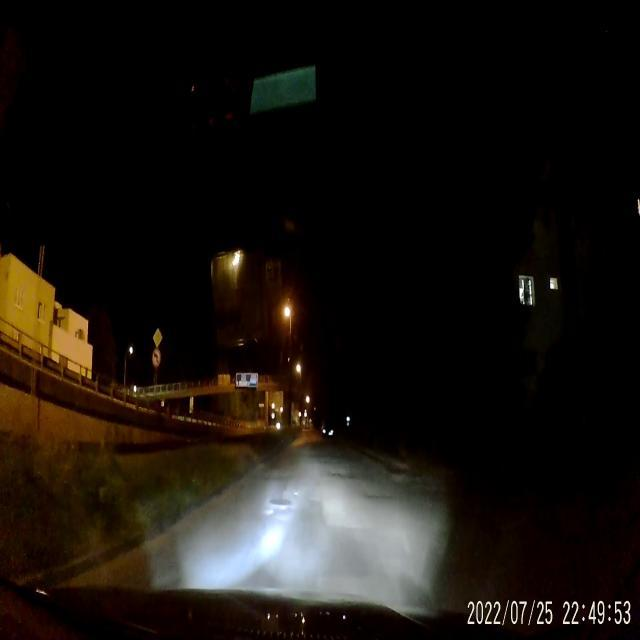Manhole: (270, 491, 290, 516)
Pothole: (328, 468, 360, 486), (366, 490, 393, 508)
